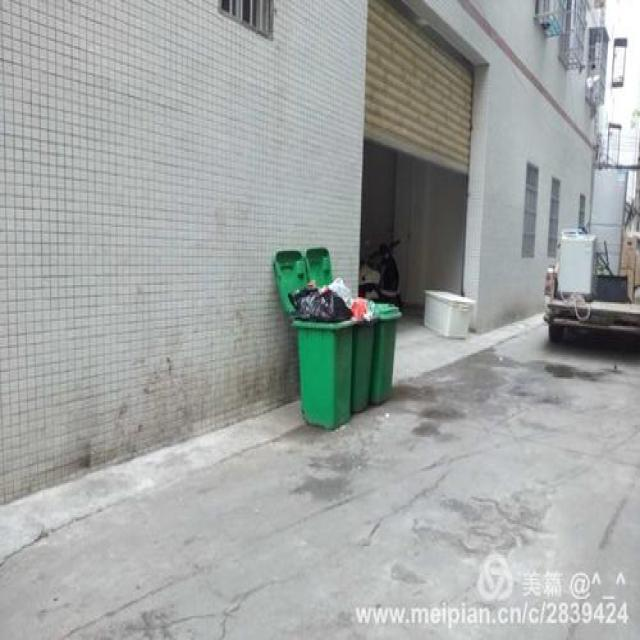garbage_bin: (372, 299, 400, 401)
overflow: (288, 280, 352, 425), (350, 296, 378, 412)
